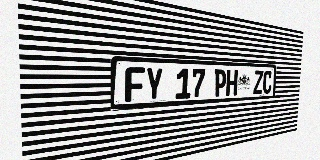1: (175, 68, 191, 99)
7: (191, 69, 205, 98)
C: (262, 71, 272, 94)
F: (125, 67, 145, 102)
H: (226, 70, 238, 96)
P: (214, 69, 226, 97)
Y: (145, 67, 163, 101)
Z: (253, 70, 263, 94)
